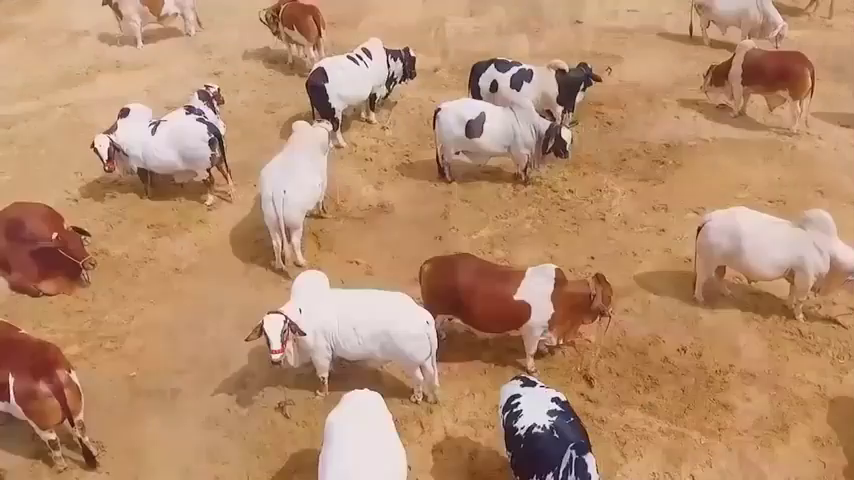bo: (253, 264, 448, 403), (416, 244, 613, 378), (680, 181, 849, 327), (417, 84, 593, 196), (5, 311, 109, 476), (483, 359, 613, 480), (88, 97, 228, 205), (251, 115, 338, 269), (696, 39, 826, 138), (3, 190, 111, 309), (300, 373, 428, 472), (306, 43, 423, 145), (457, 42, 590, 125), (680, 2, 802, 56), (252, 1, 335, 72), (102, 1, 208, 49), (180, 74, 227, 151)
